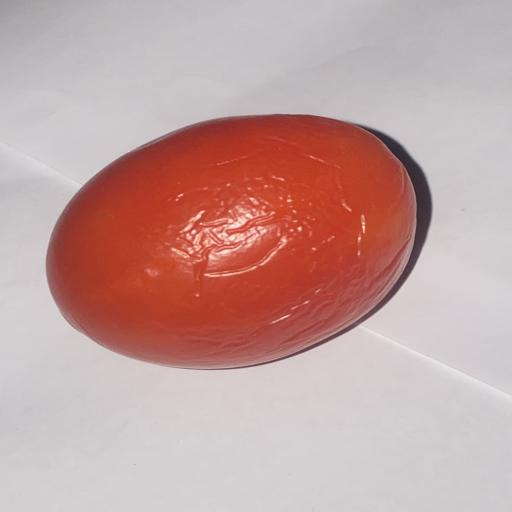spoiled: (47, 115, 415, 368)
